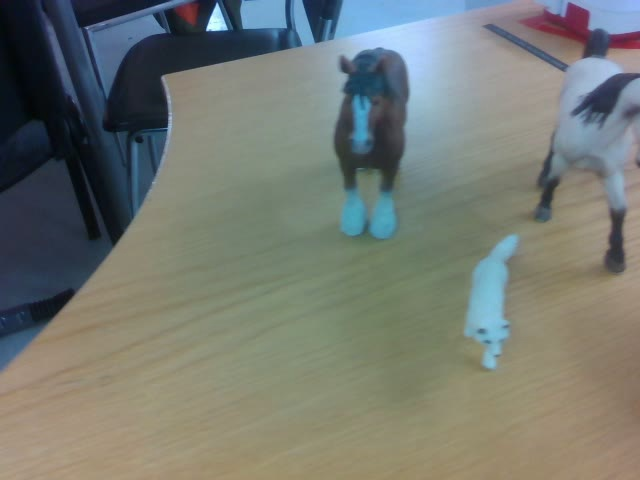toy: (337, 48, 409, 238), (464, 232, 520, 371)
